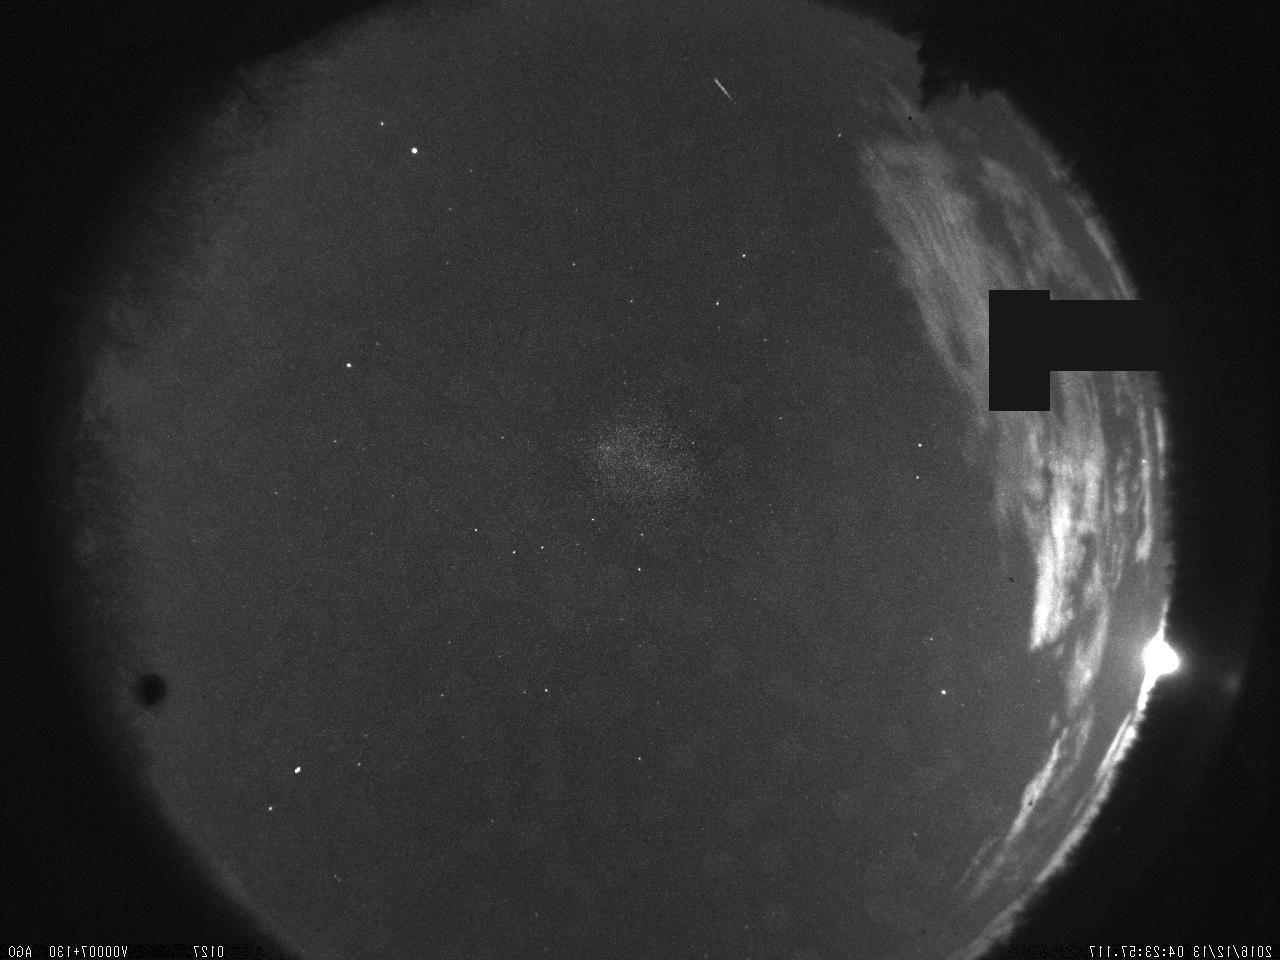meteor: (709, 73, 738, 104)
